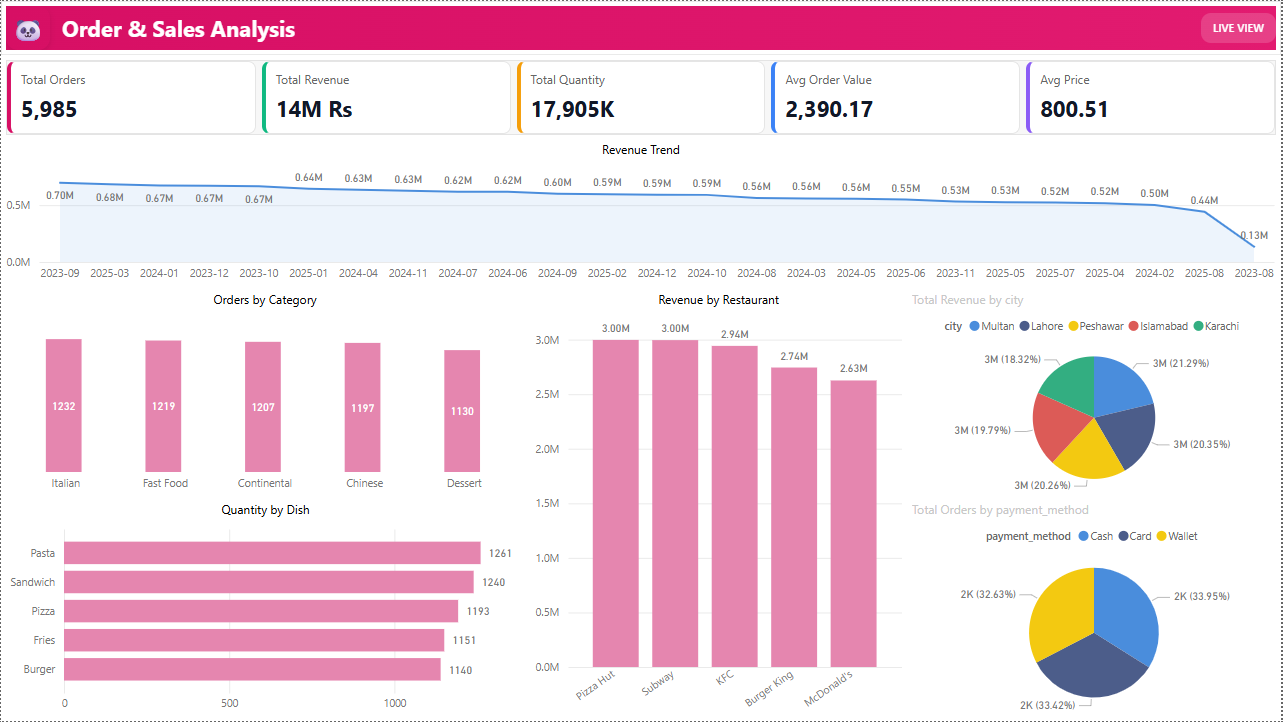

What the dashboard file says about the page in this screenshot:
{"tool":"powerbi","page":{"name":"Order & Sales Analysis","canvas":[1280,720],"ordinal":2},"visuals":[{"type":"htmlContent443BE3AD55E043BF878BED274D3A6855","fields":{"content":["Foodpanda.Order & Sales Analysis Title HTML"]},"box":[0,0,1280,54.3],"z":0},{"type":"lineChart","title":"Revenue Trend","fields":{"Category":["DateTable.Year-Month"],"Y":["Foodpanda.Total Revenue"]},"box":[0,140,1280,150],"z":1000},{"type":"htmlContent443BE3AD55E043BF878BED274D3A6855","fields":{"content":["Foodpanda.Order KPI Group HTML"]},"box":[0,54.3,1280,85.7],"z":2000},{"type":"ribbonChart","title":"Orders by Category","fields":{"Y":["Foodpanda.Total Orders"],"Category":["Foodpanda.category"]},"box":[0,290,528.2,210],"z":3000},{"type":"columnChart","title":"Revenue by Restaurant","fields":{"Category":["Foodpanda.restaurant_name"],"Y":["Foodpanda.Total Revenue"]},"box":[528.6,290,377.1,430],"z":4000},{"type":"barChart","title":"Quantity by Dish","fields":{"Category":["Foodpanda.dish_name"],"Y":["Foodpanda.Total Orders"]},"box":[0,500,528.6,220],"z":5000},{"type":"pieChart","fields":{"Category":["Foodpanda.payment_method"],"Y":["Foodpanda.Total Orders"]},"box":[905.7,500,374.3,220],"z":6000},{"type":"pieChart","fields":{"Y":["Foodpanda.Total Revenue"],"Category":["Foodpanda.city"]},"box":[905.7,290,374.3,210],"z":7000}]}

Visuals, with their boxes in screenshot pixels (x1, y1, x2, y2), scaled from the page's 1280x720 canvas onto the 1283x722 screenshot:
htmlContent443BE3AD55E043BF878BED274D3A6855 - Foodpanda.Order & Sales Analysis Title HTML: Rect(0, 0, 1282, 54)
"Revenue Trend" lineChart: Rect(0, 140, 1282, 291)
htmlContent443BE3AD55E043BF878BED274D3A6855 - Foodpanda.Order KPI Group HTML: Rect(0, 54, 1282, 140)
"Orders by Category" ribbonChart: Rect(0, 291, 529, 501)
"Revenue by Restaurant" columnChart: Rect(530, 291, 908, 721)
"Quantity by Dish" barChart: Rect(0, 501, 530, 721)
pieChart - Foodpanda.payment_method x Foodpanda.Total Orders: Rect(908, 501, 1282, 721)
pieChart - Foodpanda.Total Revenue x Foodpanda.city: Rect(908, 291, 1282, 501)
